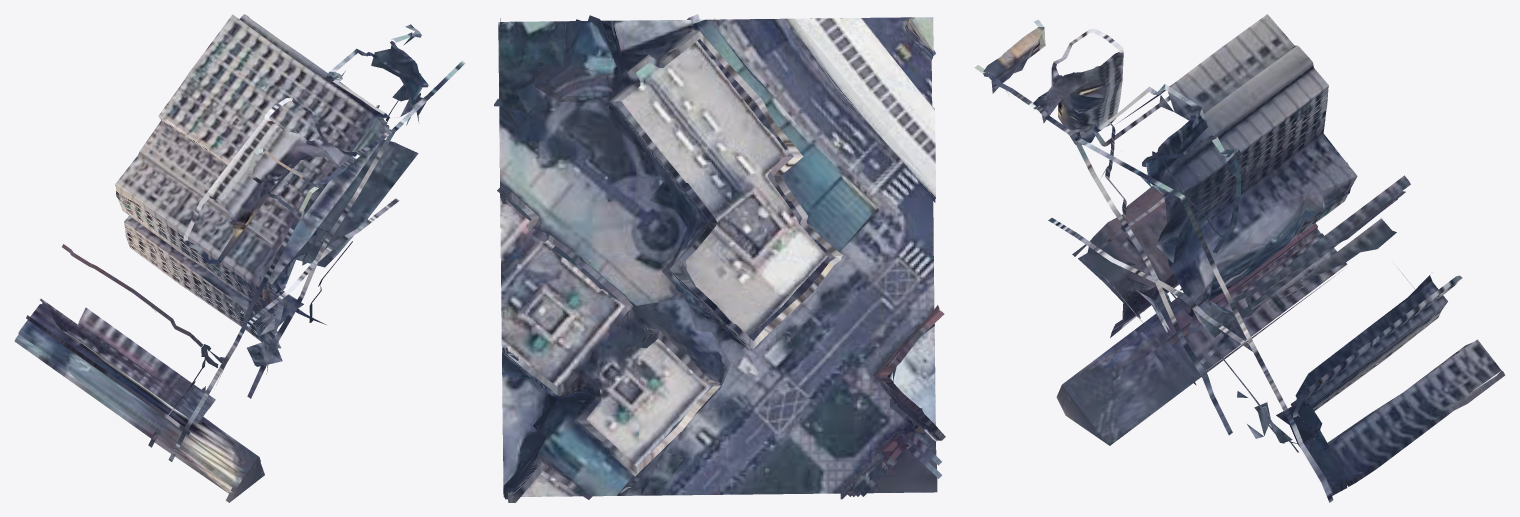
3 views of the same model, side by side, from view 1: azimuth 30°, elevation 25°; view 2: azimuth 150°, elevation 25°; view 3: azimuth 270°, elevation 25° (orthographic). The views are drawn at different scales.
Bounding box in the file's own units: 94.83 × 91.21 × 97.04.
Materials: 2 (2 with a texture image).
